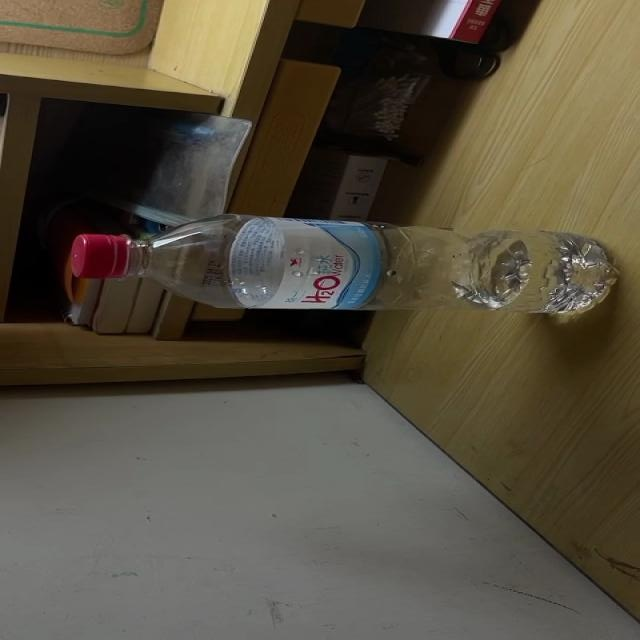Water: (70, 214, 615, 313)
